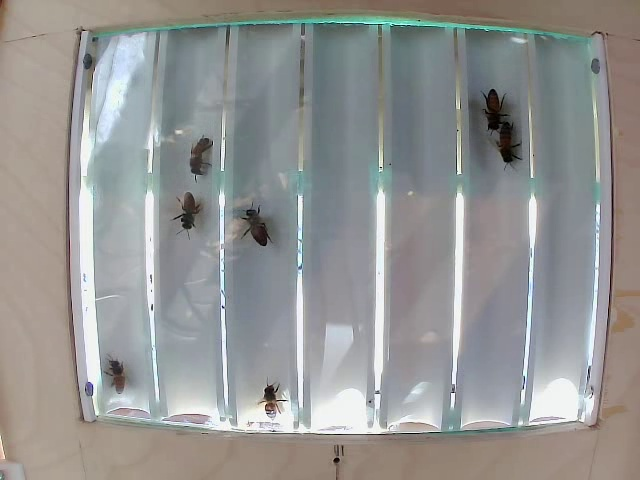bee: (244, 196, 292, 261), (178, 133, 227, 186), (170, 192, 217, 241), (489, 117, 527, 164), (471, 90, 505, 135)
